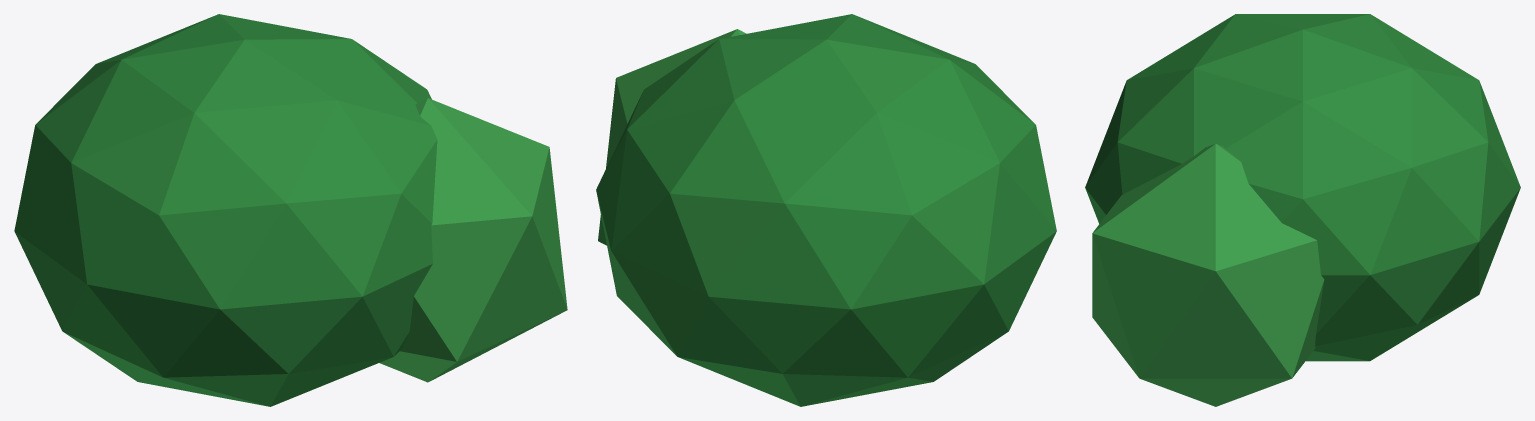
Rendered from berry.glb.
3 renders of one model, left to right at view 1: azimuth 30°, elevation 25°; view 2: azimuth 150°, elevation 25°; view 3: azimuth 270°, elevation 25°, orthographic. The views are drawn at different scales.
Visible parts, largest first — view 1: Bush, Bush2; view 2: Bush, Bush2; view 3: Bush, Bush2.
Boxes of the visible parts, box(x1,y1,x2,y2) form: Bush: box(14, 14, 437, 406); Bush2: box(379, 98, 567, 382); Bush: box(596, 14, 1056, 406); Bush2: box(598, 29, 746, 245); Bush: box(1085, 14, 1520, 361); Bush2: box(1092, 143, 1324, 406).
Bounding box in the file's own units: 0.6642 × 0.48 × 0.6.
